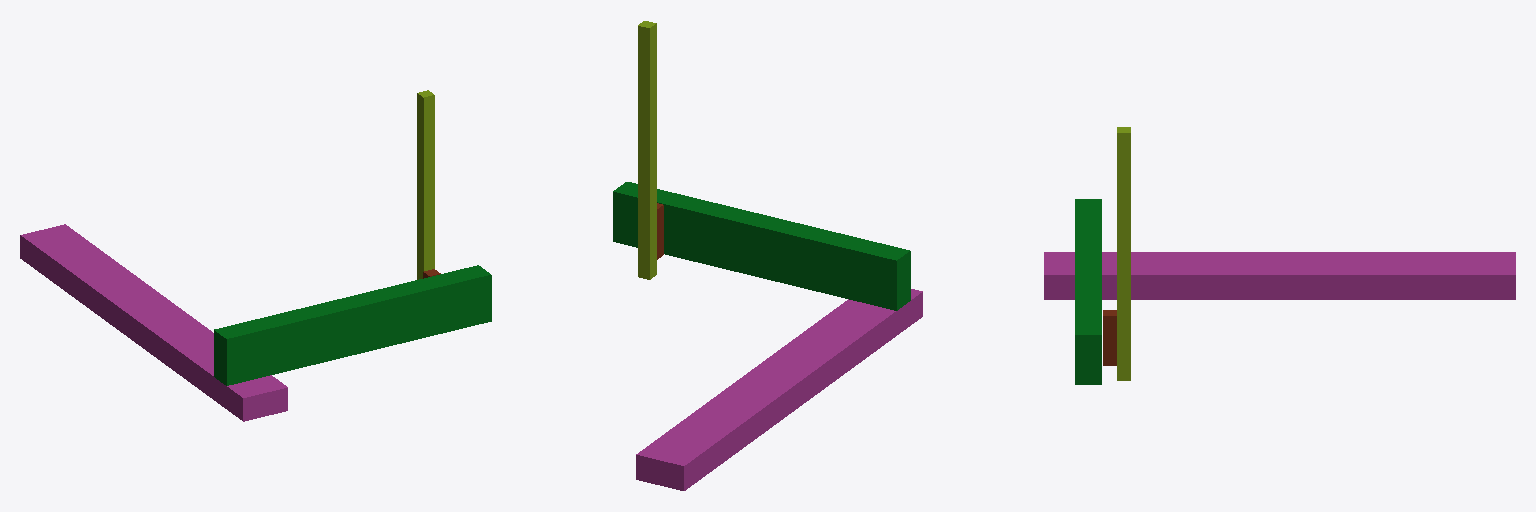
URDF robot description (picker):
<robot name="picker">
  <link name="base_footprint"></link>
  <joint name="base_joint" type="fixed">
    <parent link="base_footprint" />
    <child link="base_link" />
    <origin xyz="0 0 0" rpy="0 0 0" />
  </joint>
  <link name="base_link">
    <visual>
      <origin xyz="0 0 0" rpy="0 0 0" />
      <geometry>
        <box size="0.2 1.72 0.1" />
      </geometry>
      <material name="base_link-material">
        <color rgba="0.6795424696265424 0.28314874041918053 0.6038273388475408 1" />
      </material>
    </visual>
    <collision>
      <origin xyz="0 0 0" rpy="0 0 0" />
      <geometry>
        <box size="0.2 1.72 0.1" />
      </geometry>
    </collision>
    <inertial>
      <origin xyz="0 0 0" rpy="0 0 0" />
      <mass value="1" />
      <inertia ixx="0.16666666666666666" ixy="0" ixz="0" iyy="0.16666666666666666" iyz="0"
        izz="0.16666666666666666" />
    </inertial>
  </link>
  <joint name="base_link_to_link2" type="prismatic">
    <parent link="base_link" />
    <child link="link2" />
    <origin xyz="0.47820843687512327 -0.7 0.16" rpy="0 0 0" />
    <axis xyz="-0.007463304674520997 0.9999698467567142 0.0021458473125477297" />
    <limit effort="1000.0" lower="0" upper="1.3" velocity="1.2" />
  </joint>
  <link name="link2">
    <visual>
      <origin xyz="0 0 0" rpy="0 0 0" />
      <geometry>
        <box size="1.18 0.1 0.2" />
      </geometry>
      <material name="link2-material">
        <color rgba="0.054480276435339814 0.46778379610254284 0.14412847084818123 1" />
      </material>
    </visual>
    <collision>
      <origin xyz="0 0 0" rpy="0 0 0" />
      <geometry>
        <box size="1.18 0.1 0.2" />
      </geometry>
    </collision>
    <inertial>
      <origin xyz="0 0 0" rpy="0 0 0" />
      <mass value="1" />
      <inertia ixx="0.16666666666666666" ixy="0" ixz="0" iyy="0.16666666666666666" iyz="0"
        izz="0.16666666666666666" />
    </inertial>
  </link>
  <joint name="link2_to_link3_1" type="prismatic">
    <parent link="link2" />
    <child link="link3_1" />
    <origin xyz="0.40 0.08 0" rpy="0 0 0" />
    <axis xyz="-1 0 0" />
    <limit effort="1000.0" lower="0" upper="0.7" velocity="1.2" />
  </joint>
  <link name="link3_1">
    <visual>
      <origin xyz="0 0 0" rpy="0 0 0" />
      <geometry>
        <box size="0.05 0.05 0.2" />
      </geometry>
      <material name="link3_1-material">
        <color rgba="0.4969329950515914 0.22696587349938613 0.12477181755144427 1" />
      </material>
    </visual>
    <collision>
      <origin xyz="0 0 0" rpy="0 0 0" />
      <geometry>
        <box size="0.05 0.05 0.2" />
      </geometry>
    </collision>
    <inertial>
      <origin xyz="0 0 0" rpy="0 0 0" />
      <mass value="1" />
      <inertia ixx="0.16666666666666666" ixy="0" ixz="0" iyy="0.16666666666666666" iyz="0"
        izz="0.16666666666666666" />
    </inertial>
  </link>
  <joint name="link3_1_to_link4_1" type="prismatic">
    <parent link="link3_1" />
    <child link="link4_1" />
    <origin xyz="0.001791563124876716 0.050000000000000044 0.33999999999999997" rpy="0 0 0" />
    <axis xyz="0 0 1" />
    <limit effort="1000.0" lower="-0.9" upper="0" velocity="1.2" />
  </joint>
  <link name="link4_1">
    <visual>
      <origin xyz="0 0 0" rpy="0 0 0" />
      <geometry>
        <box size="0.05 0.05 1" />
      </geometry>
      <material name="link4_1-material">
        <color rgba="0.5209955731953768 0.6375968739867731 0.13843161502267545 1" />
      </material>
    </visual>
    <collision>
      <origin xyz="0 0 0" rpy="0 0 0" />
      <geometry>
        <box size="0.05 0.05 1" />
      </geometry>
    </collision>
    <inertial>
      <origin xyz="0 0 0" rpy="0 0 0" />
      <mass value="1" />
      <inertia ixx="0.16666666666666666" ixy="0" ixz="0" iyy="0.16666666666666666" iyz="0"
        izz="0.16666666666666666" />
    </inertial>
  </link>
</robot>

--- Render facts (derived) ---
Views: 3 orthographic renders of the robot side by side, from view 1: azimuth 30°, elevation 25°; view 2: azimuth 150°, elevation 25°; view 3: azimuth 270°, elevation 25°.
Robot: picker — 5 links, 4 joints (3 prismatic, 1 fixed); root link base_footprint; default pose: all joints at 0.
Visible links, largest first — view 1: link2, base_link, link4_1; view 2: link2, base_link, link4_1; view 3: base_link, link2, link4_1, link3_1.
Boxes of the visible links, x1,y1,x2,y2 form: link2: (214,265,491,385); base_link: (20,224,287,421); link4_1: (417,90,434,279); link2: (613,182,910,310); base_link: (636,289,922,490); link4_1: (638,21,656,279); base_link: (1044,252,1515,299); link2: (1075,199,1101,384); link4_1: (1117,127,1130,380); link3_1: (1103,310,1116,365).
Bounding box of the posed robot: 1.18 × 1.72 × 1.05 m (x, y, z).
Geometry: primitives only (box / cylinder / sphere), no mesh files.